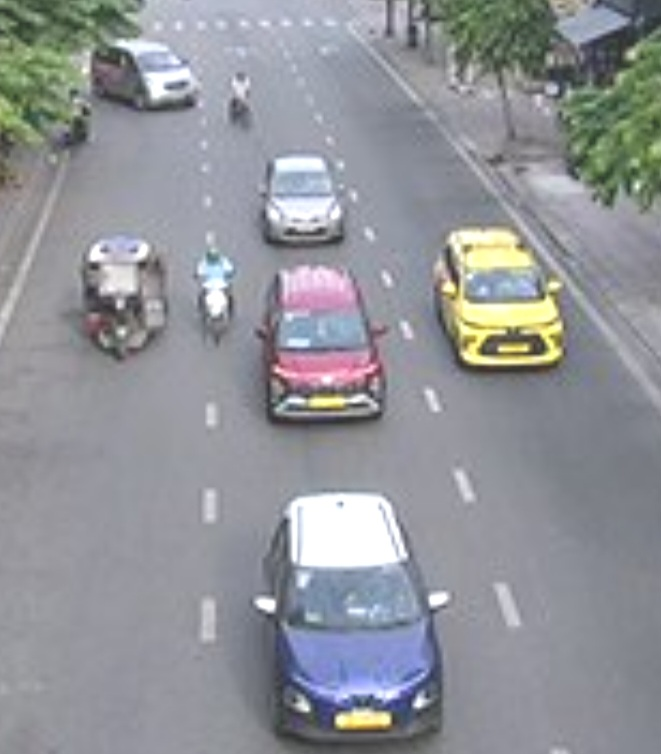car: (266, 490, 443, 741), (260, 263, 382, 423), (433, 227, 566, 370), (90, 38, 202, 115), (260, 153, 346, 248)
